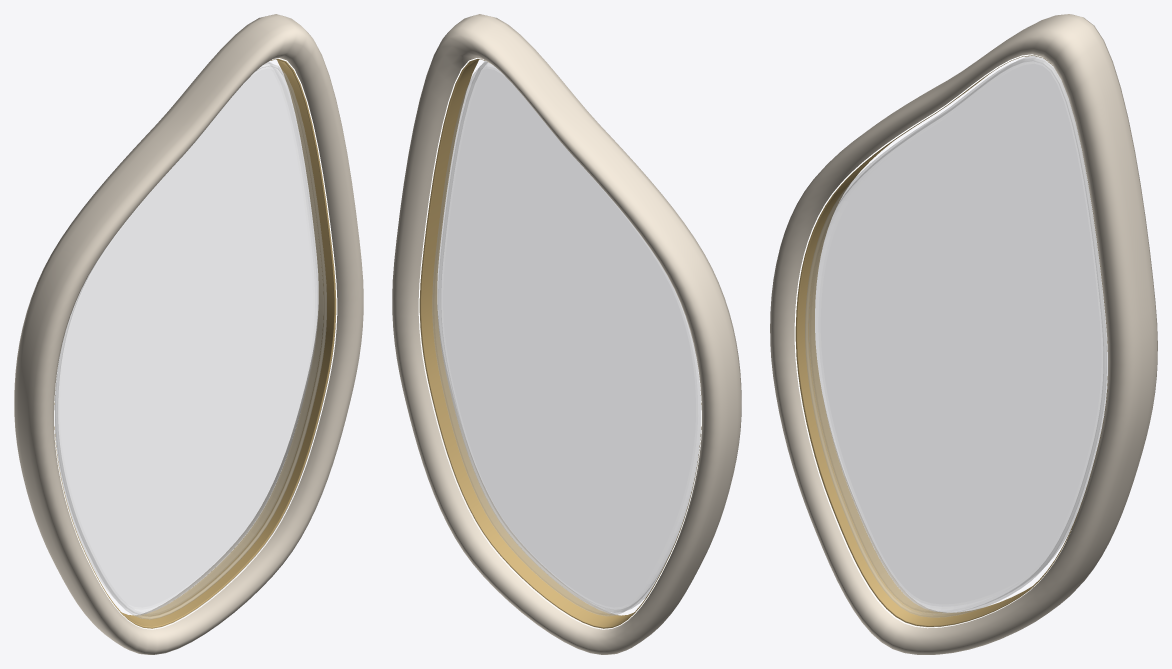
The model's file is seed.glb.
The picture shows the model from 3 angles, left to right: view 1: azimuth 30°, elevation 25°; view 2: azimuth 150°, elevation 25°; view 3: azimuth 330°, elevation 25°; orthographic projection. The views are drawn at different scales.
Parts seen in each view (by area): view 1: Slab_Glass.001, Fixed_GlassFrame.001, Fixed_ChampagneReveal.001, Slab_PolishedEdge.001, Fixed_InnerLight_Front.001; view 2: Slab_Glass.001, Fixed_GlassFrame.001, Fixed_ChampagneReveal.001, Slab_PolishedEdge.001, Fixed_InnerLight_Back.001; view 3: Slab_Glass.001, Fixed_GlassFrame.001, Fixed_ChampagneReveal.001, Slab_PolishedEdge.001, Fixed_InnerLight_Front.001.
Boxes of the visible parts, <box> form: Slab_Glass.001: <box>55,62,323,616</box>; Fixed_GlassFrame.001: <box>14,14,363,654</box>; Fixed_ChampagneReveal.001: <box>54,58,336,628</box>; Slab_PolishedEdge.001: <box>55,63,326,619</box>; Fixed_InnerLight_Front.001: <box>54,58,337,629</box>; Slab_Glass.001: <box>432,62,700,616</box>; Fixed_GlassFrame.001: <box>392,14,741,654</box>; Fixed_ChampagneReveal.001: <box>419,58,701,628</box>; Slab_PolishedEdge.001: <box>438,61,666,612</box>; Fixed_InnerLight_Back.001: <box>418,58,701,629</box>; Slab_Glass.001: <box>809,56,1107,613</box>; Fixed_GlassFrame.001: <box>770,14,1157,654</box>; Fixed_ChampagneReveal.001: <box>795,55,1107,626</box>; Slab_PolishedEdge.001: <box>805,58,1106,617</box>; Fixed_InnerLight_Front.001: <box>794,54,1071,628</box>.
Size of the model in its own units: 2.01 by 3.44 by 0.3539.
